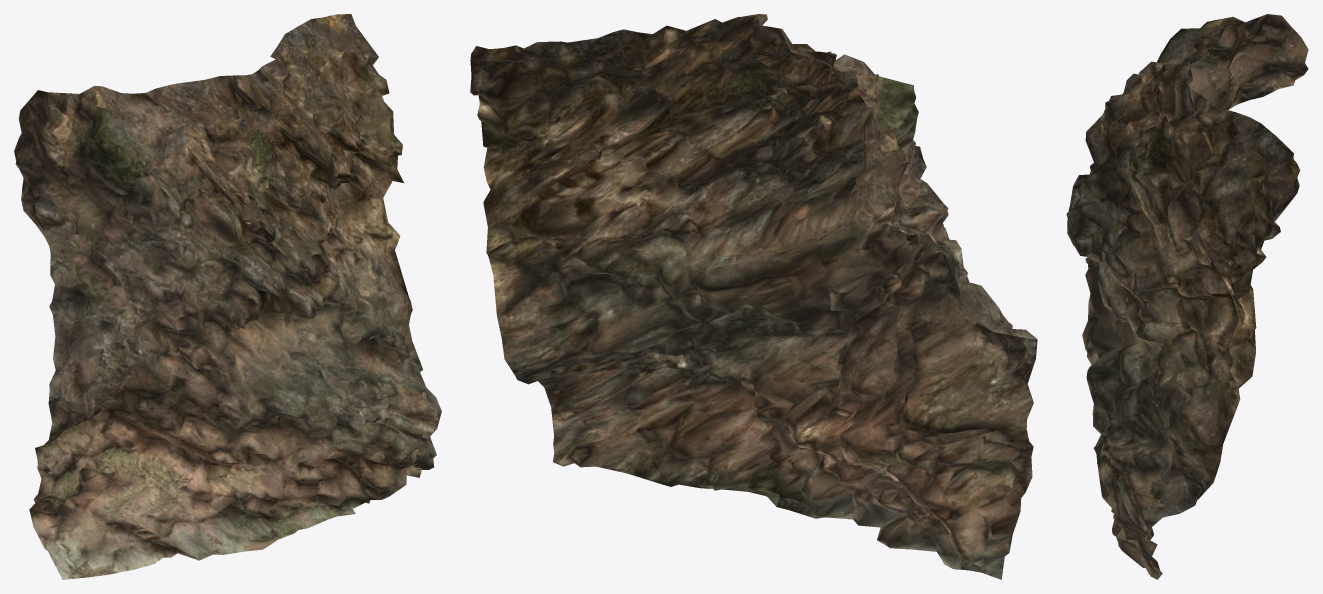
File: mountainside.glb
3 renders of one model, left to right at view 1: azimuth 30°, elevation 25°; view 2: azimuth 150°, elevation 25°; view 3: azimuth 270°, elevation 25°, orthographic. The views are drawn at different scales.
Parts seen in each view (by area): view 1: mountainside; view 2: mountainside; view 3: mountainside.
Boxes of the visible parts, x1,y1,x2,y2 form: mountainside: (14,14,441,579); mountainside: (470,14,1037,579); mountainside: (1066,14,1308,579).
Size of the model in its own units: 10.19 by 10.52 by 5.25.
Materials: 1 (1 with a texture image).
